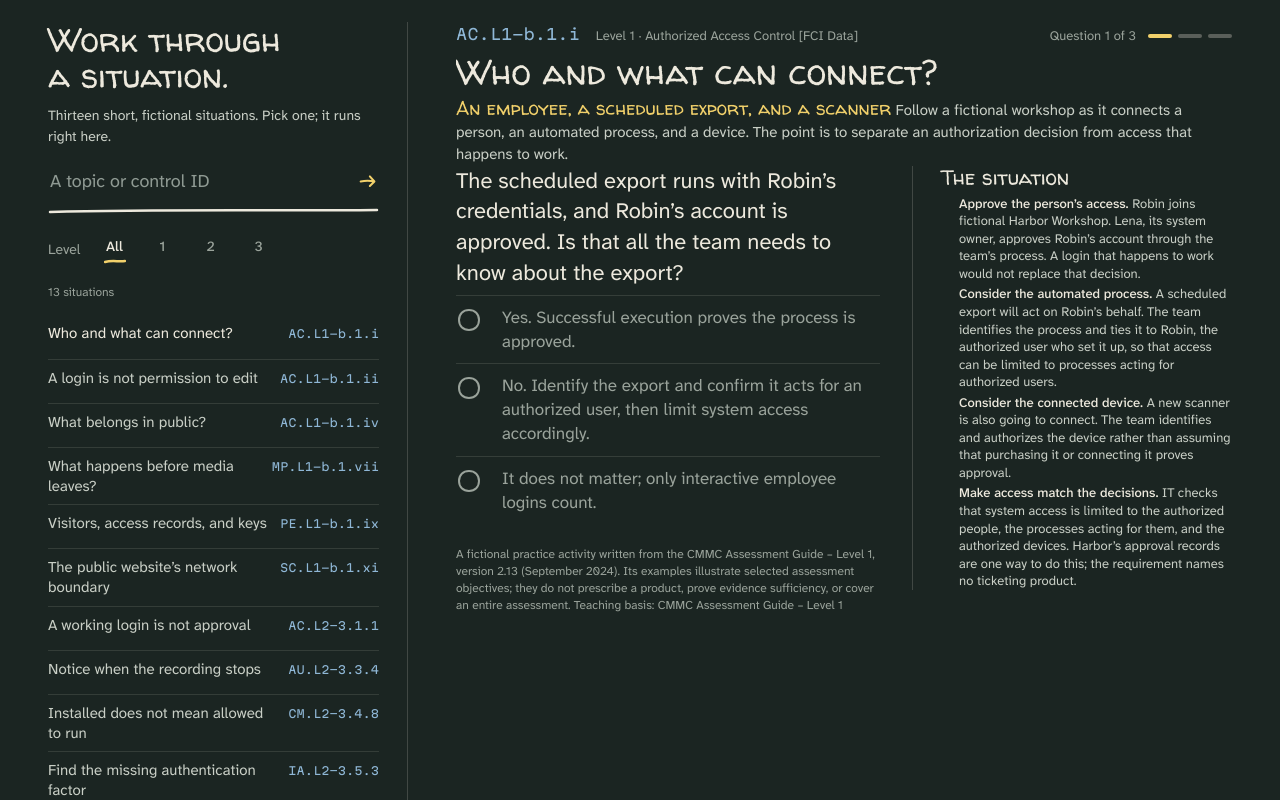
practice runs in place › narrows by level in the address and by typing, and brings every situation back
Click the link "3" at (258, 246), box x1=254 y1=237 x2=263 y2=255
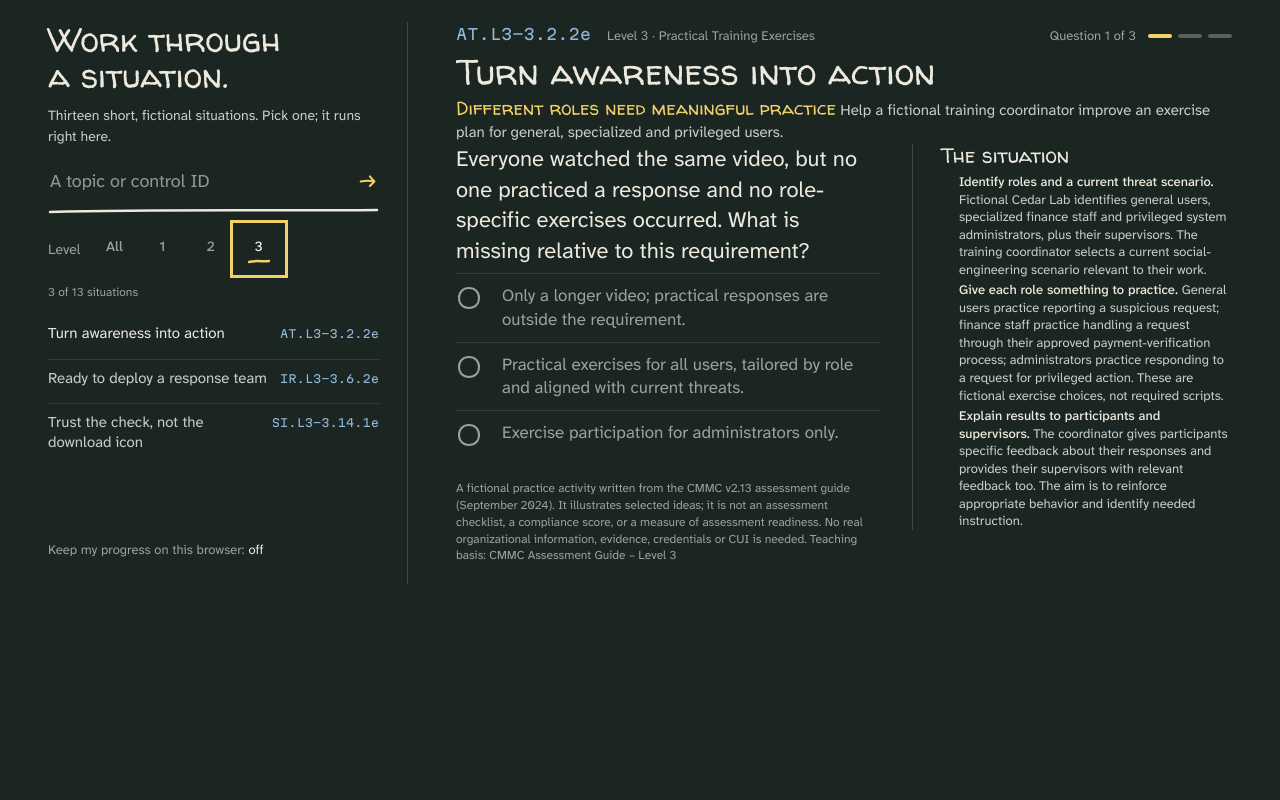
Result: the message named "Situation results" reads "3 of 13 situations" at x1=48 y1=284 x2=138 y2=300
Result: the link "A working login is not approval" is gone
Type "no such situation" into the search field named "Find a situation" at (198, 181), box x1=48 y1=159 x2=347 y2=203
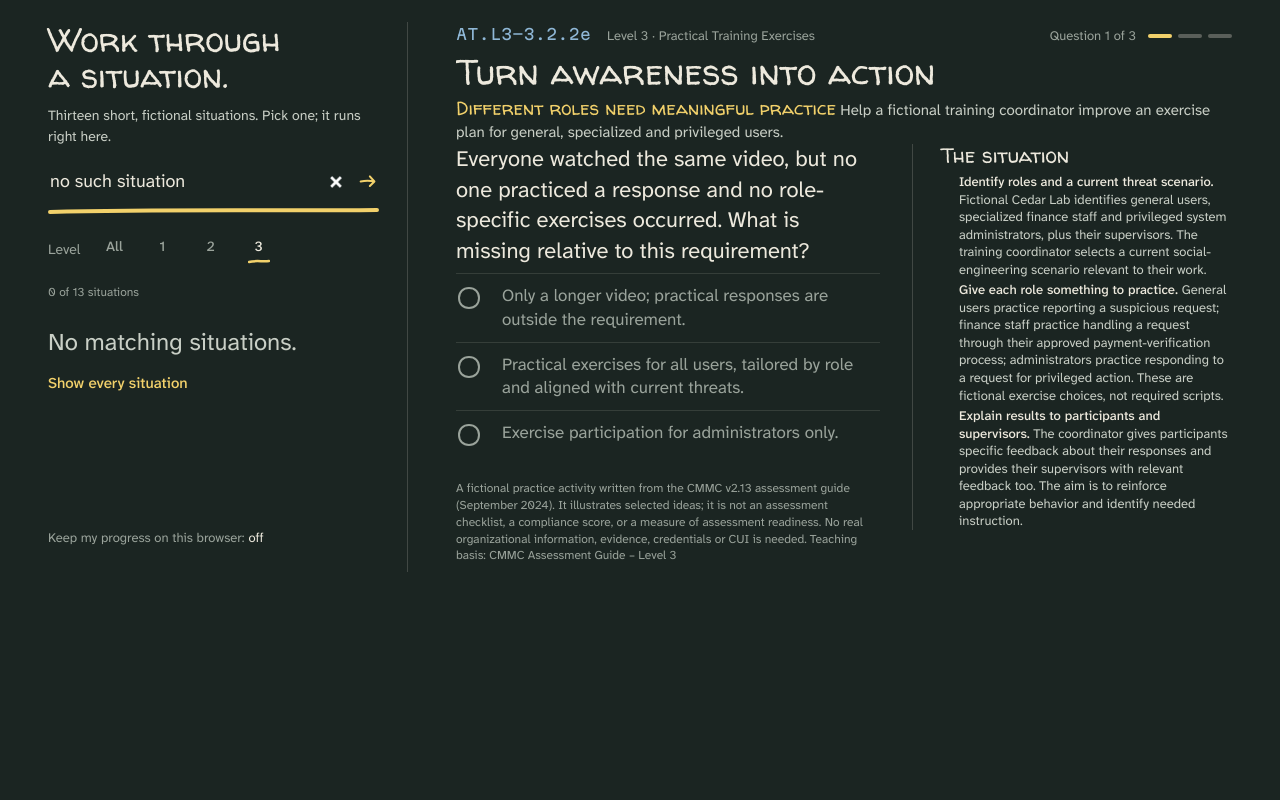
Result: the text "No matching situations." is shown at x1=48 y1=326 x2=297 y2=358
Click the button "Show every situation" at (118, 383), box x1=48 y1=361 x2=188 y2=405
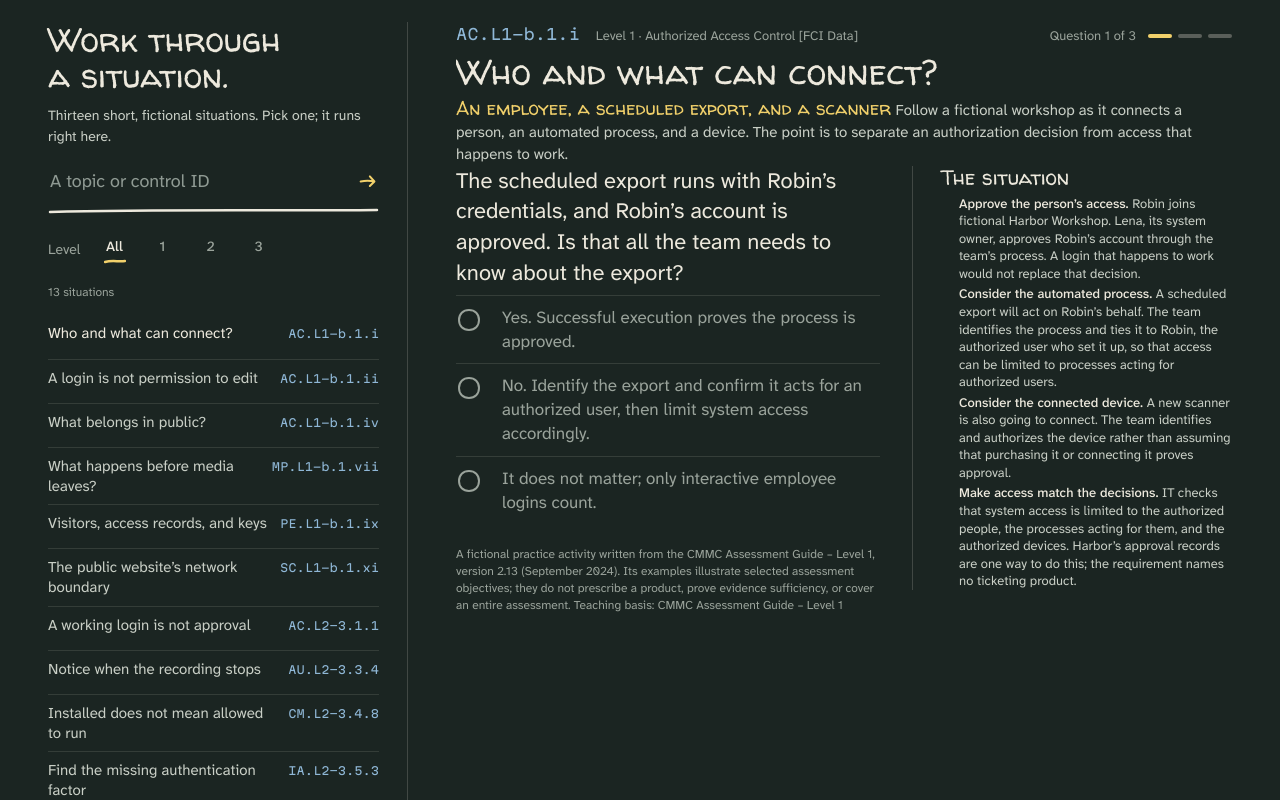
Result: the message named "Situation results" reads "13 situations" at x1=48 y1=284 x2=114 y2=300
